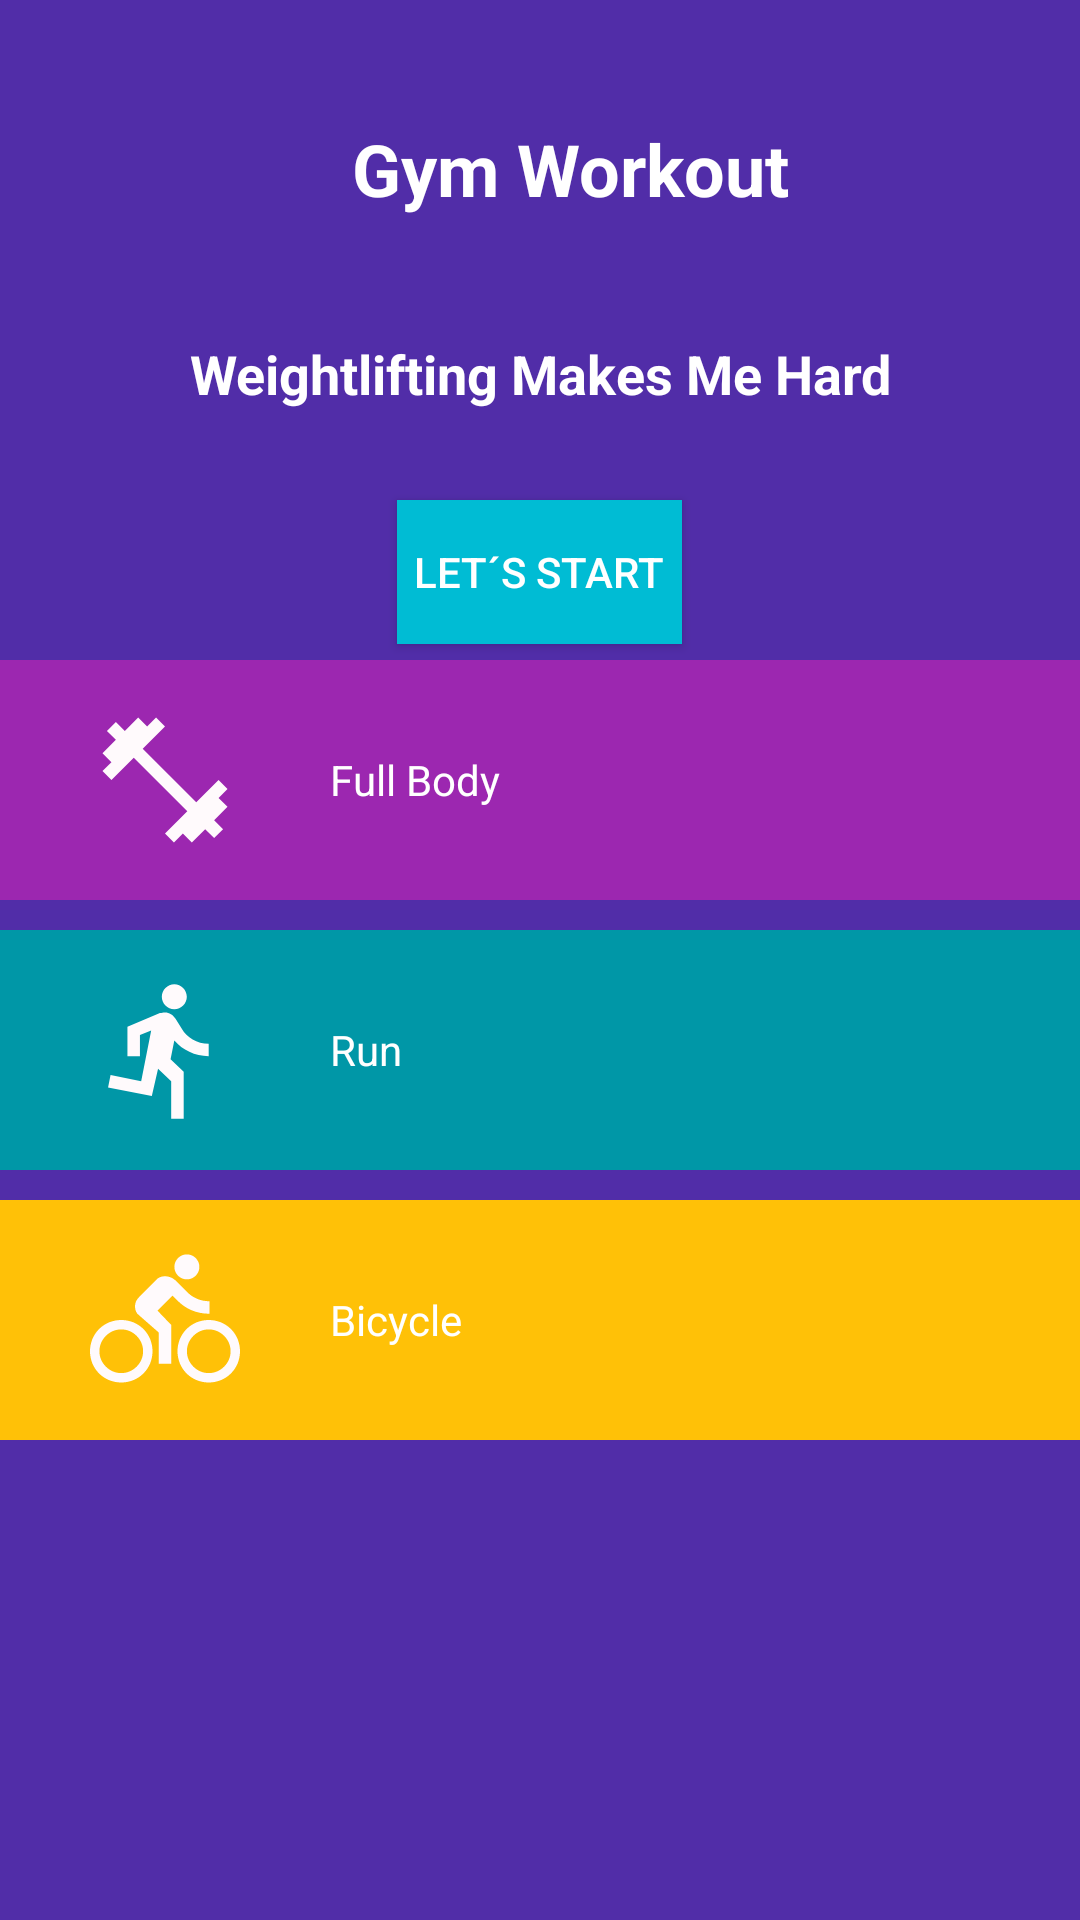

Icon click points for this 1080x1920 phone screenshot, format (x,y):
bici: (165,1318)
correr: (158,1051)
pesa: (165,780)
